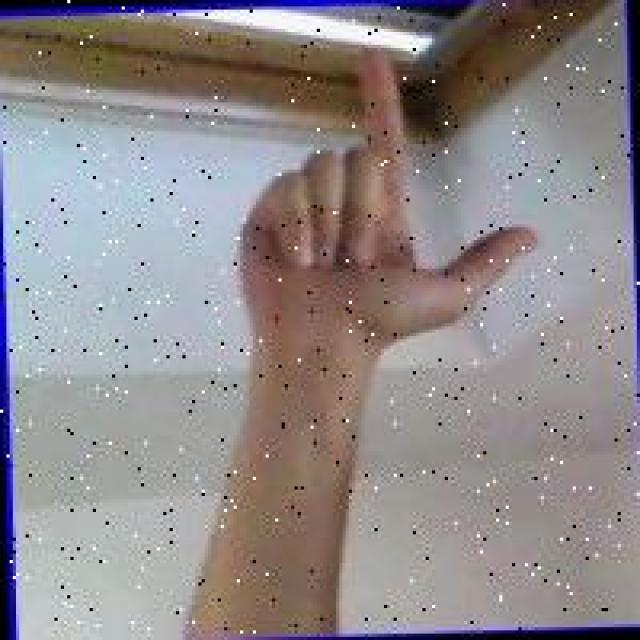L: (224, 39, 554, 362)
